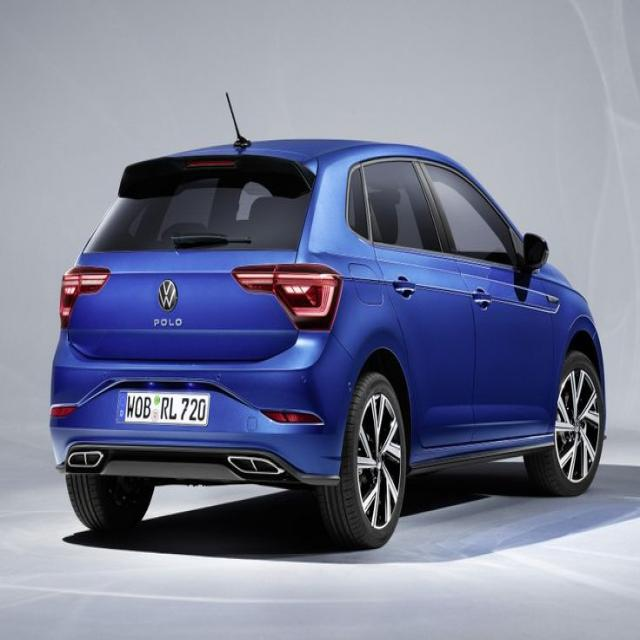Placas: (121, 383, 213, 429)
